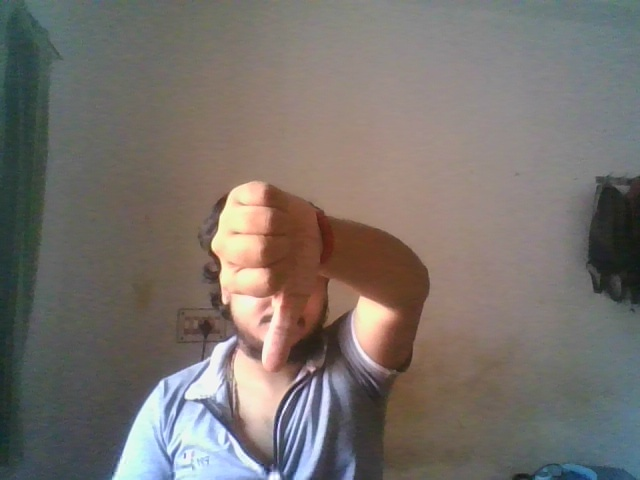ThumbsDown: (208, 180, 323, 377)
